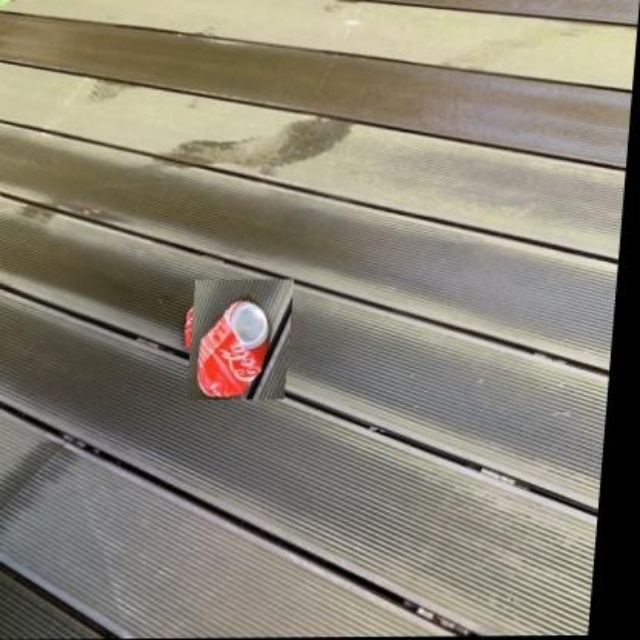trash: (197, 302, 268, 395)
